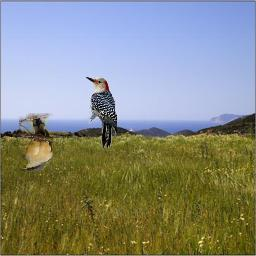Cuckoo: (19, 113, 53, 171)
Woodpecker: (85, 76, 117, 148)
